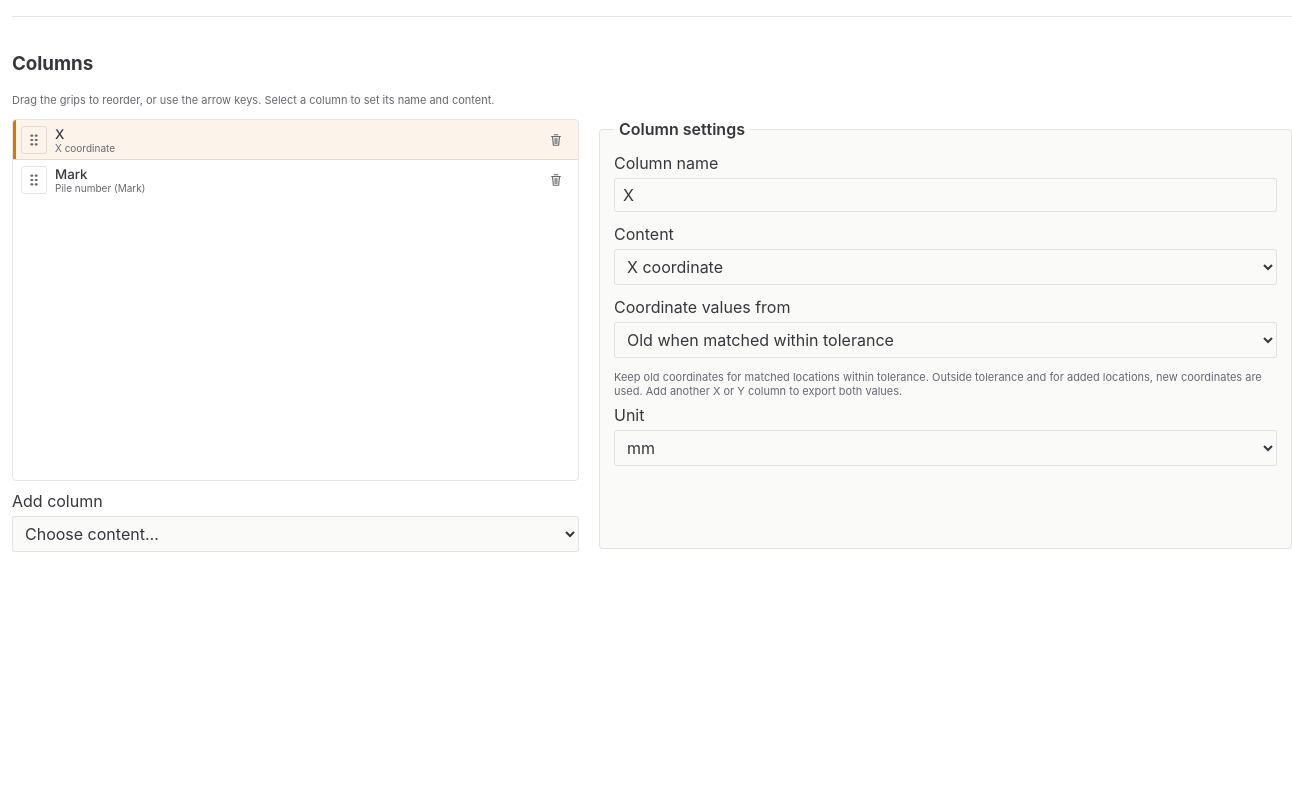
detected numbering is available only in the Mark column settings
Expected: the button "Use detected numbering rule" is not shown
Click the button "Mark Pile number (Mark)". click: (71, 174)
box: [55,166,535,194]
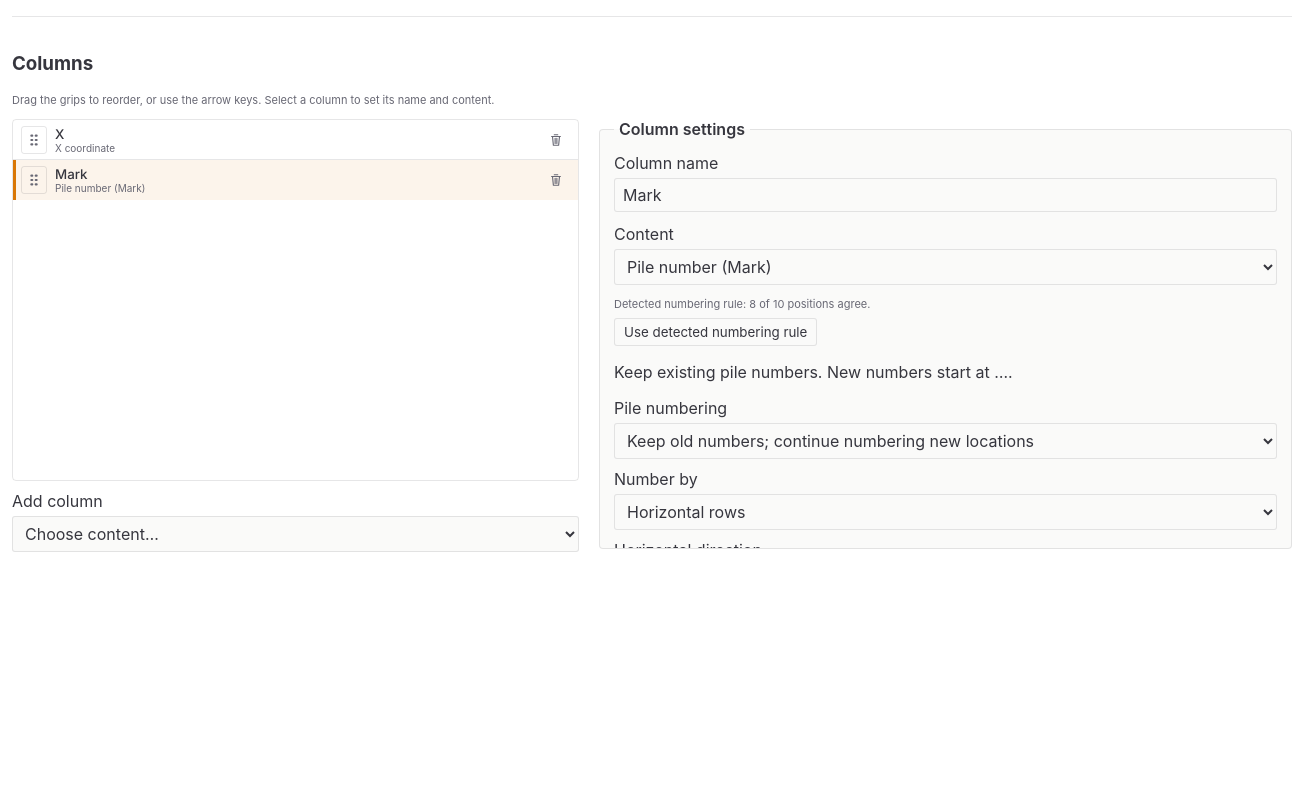
Click the button "Use detected numbering rule". click: (716, 332)
box: [614,318,817,346]
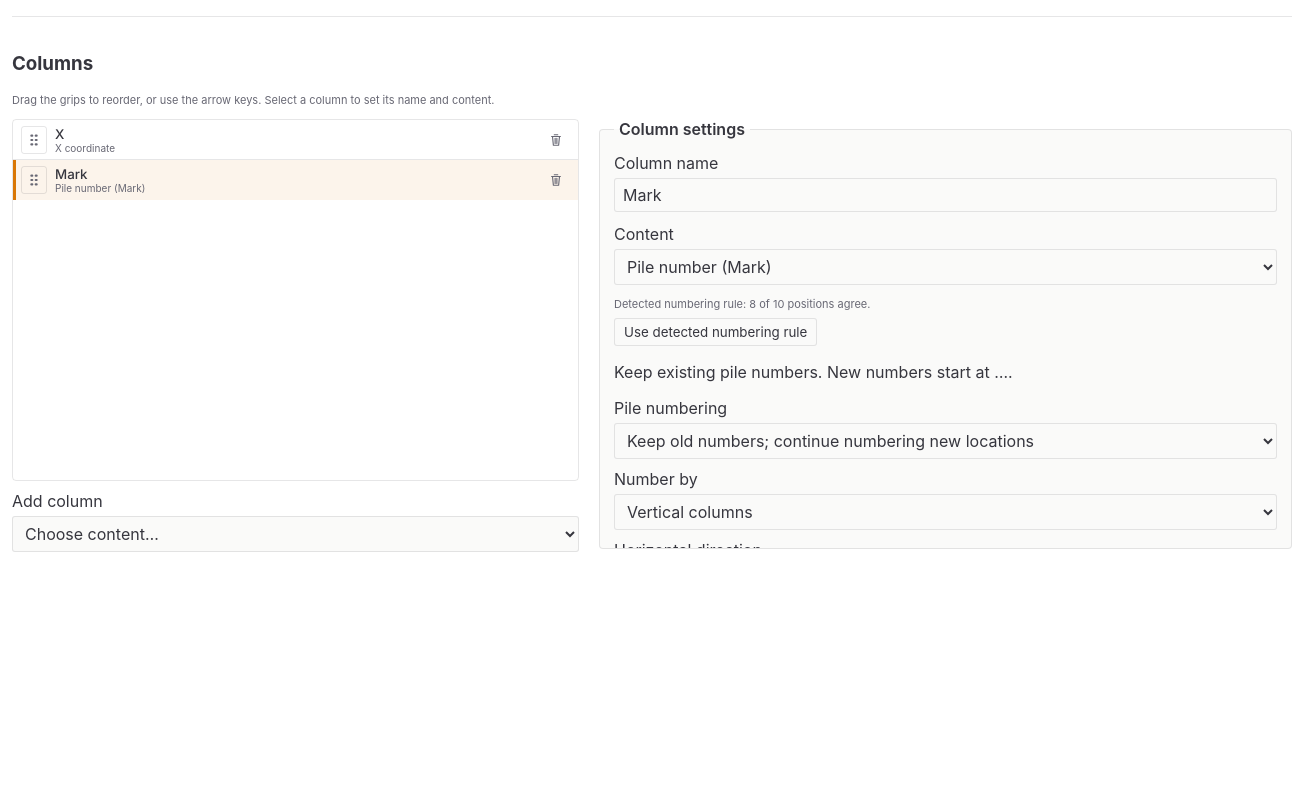
Result: the dropdown labelled "Number by" shows "Vertical columns" at [614,494,1277,530]
